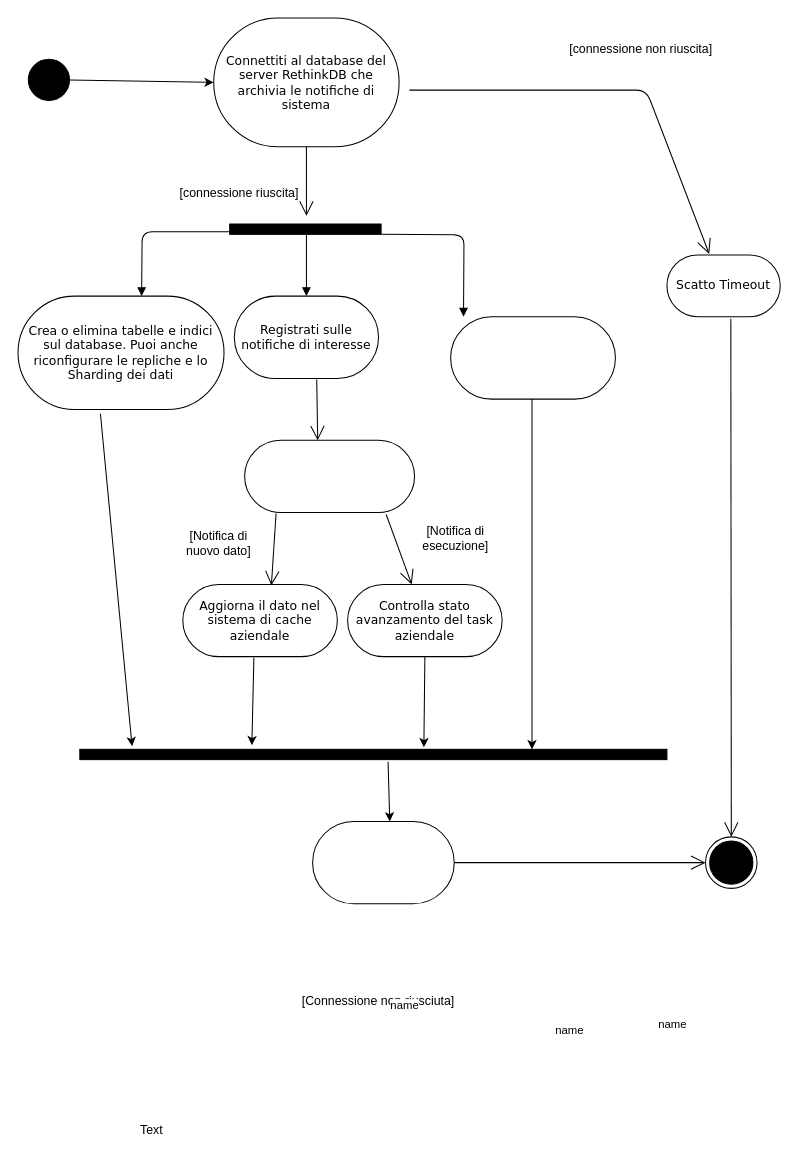
Some shapes in this 798 by 1159 pixel diagram are drawn without their labels. The centre of each missing label's shape, as x and y in pixels:
Attendi l'arrivo di notifiche inviate da altri utenti: the point at 329,475
Chiudere connessione al server RethinkDB: the point at 383,862
Inserisci nuova notifica relativa a un evento: the point at 532,357
